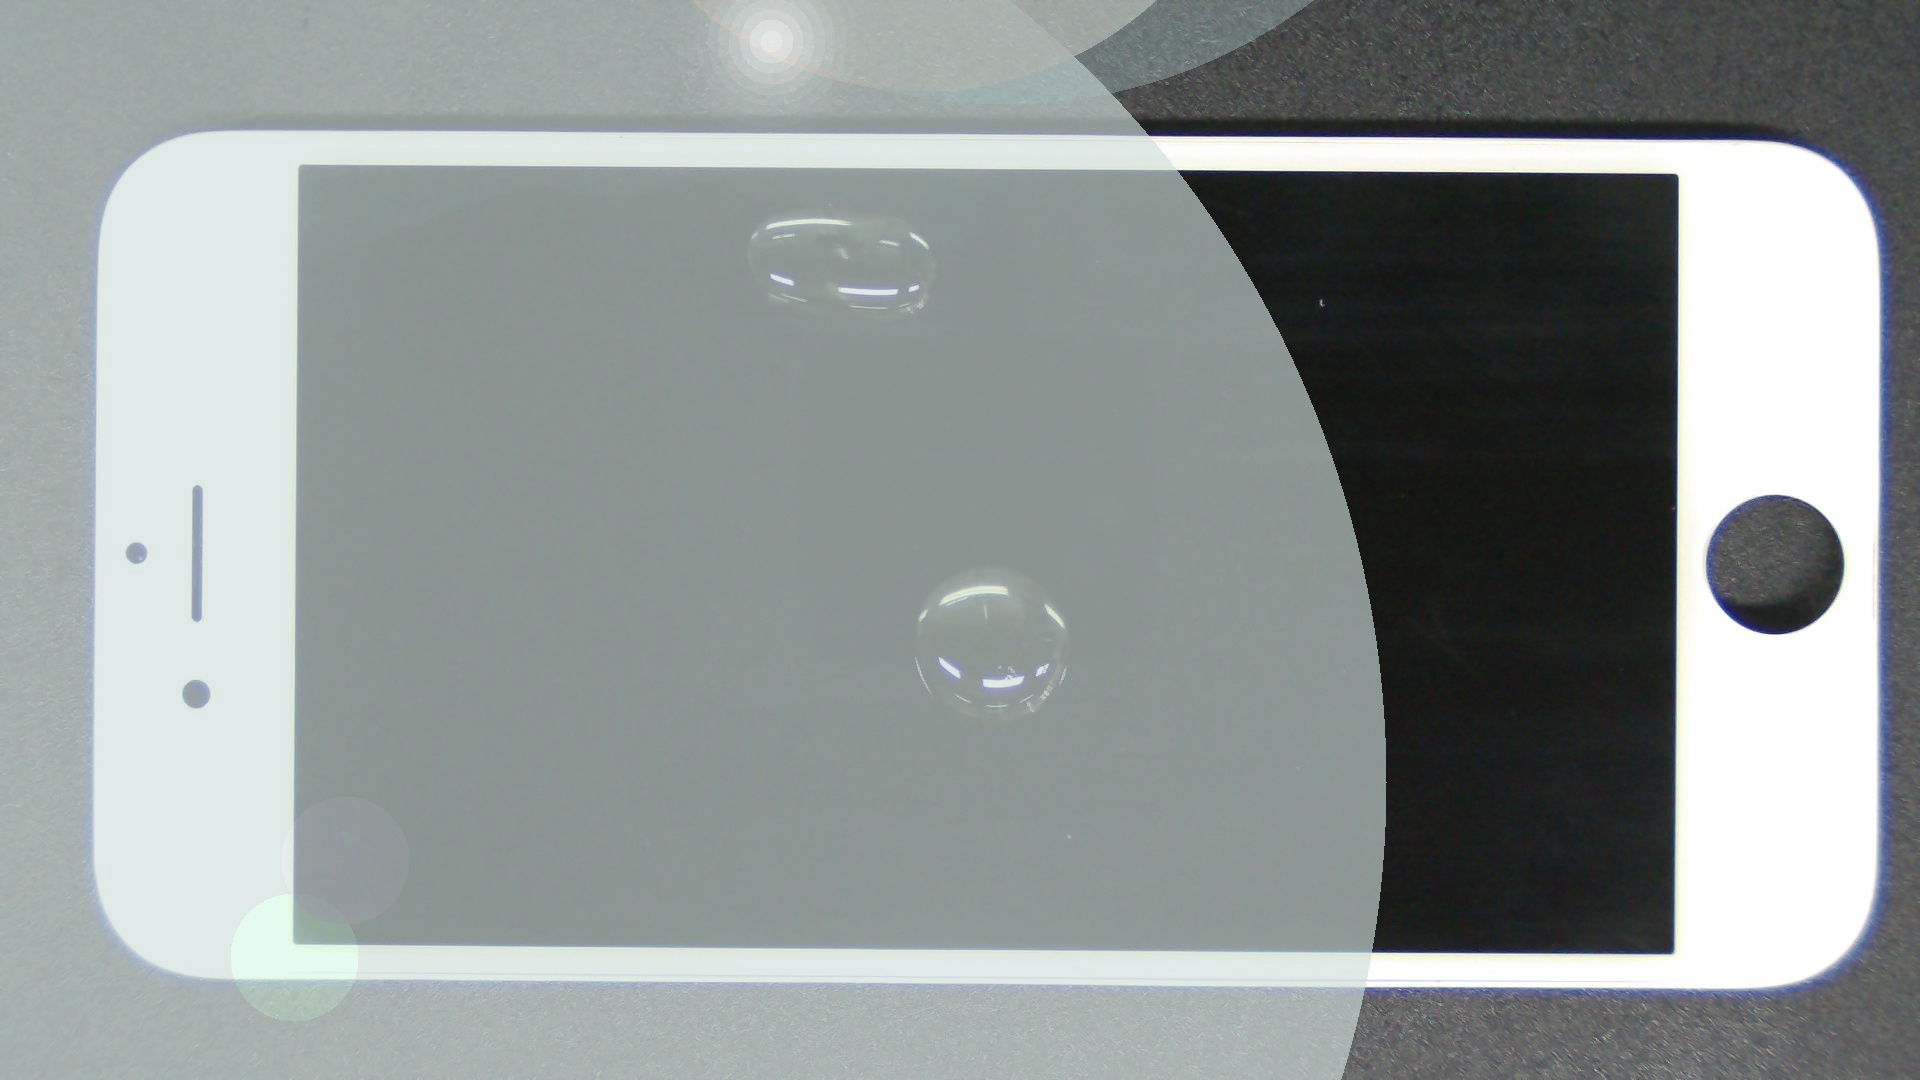oil: (493, 282, 1477, 848), (398, 104, 1192, 314)
